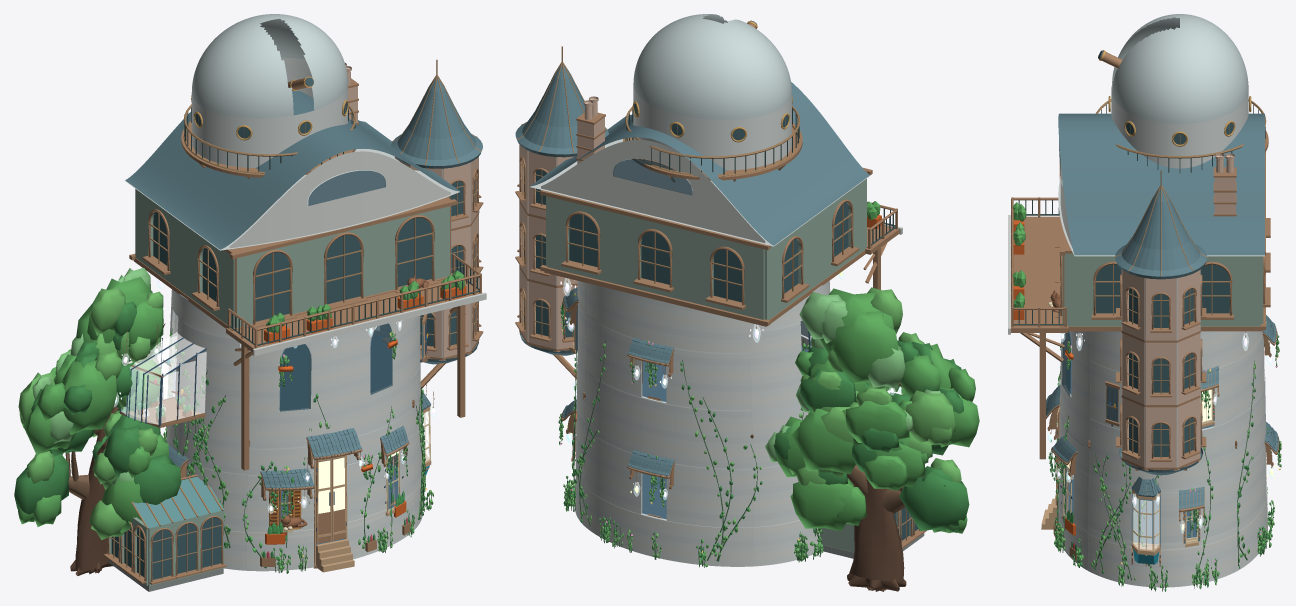
Rendered from mansion-v02.glb.
3 renders of one model, left to right at view 1: azimuth 30°, elevation 25°; view 2: azimuth 150°, elevation 25°; view 3: azimuth 270°, elevation 25°, orthographic.
Visible parts, largest first — view 1: M01_Reuse_TREE_Left_Foliage, M01_Reuse_CURVE_BellGable_SlateRoof, M01_Reuse_ObsDome_Curved, M01_Reuse_CURVE_ArchedGable_PaintedTimber, M01_Reuse_CURVE_Observatory_CylindricalDrum, M01_Reuse_EXT_Vegetation_Detail, M01_Tower_WitchHat, M01_Reuse_TREE_Left_Trunk, M01_Reuse_INT_Slab_Kitchen, M01_Reuse_CURVE_Roof_Soffit, M01_GrandBalcony_Deck, M01_Conservatory_RoofGlass (+63 smaller); view 2: M01_Reuse_TREE_Left_Foliage, M01_Reuse_ObsDome_Curved, M01_Reuse_CURVE_BellGable_SlateRoof, M01_Reuse_CURVE_ArchedGable_Rear, M01_Reuse_CURVE_Observatory_CylindricalDrum, M01_Reuse_EXT_Vegetation_Detail, M01_Reuse_TREE_Left_Trunk, M01_Tower_WitchHat, M01_Reuse_CURVE_Roof_Soffit, M01_UpperFloor_Rear_R.002, M01_UpperFloor_Rear_L.002, M01_UpperFloor_Rear_L.001 (+62 smaller); view 3: M01_Reuse_CURVE_BellGable_SlateRoof, M01_Reuse_ObsDome_Curved, M01_Reuse_EXT_Vegetation_Detail, M01_Tower_WitchHat, M01_Reuse_CURVE_Observatory_CylindricalDrum, M01_GrandBalcony_Deck, M01_UpperFloor_Side_R.003, M01_UpperFloor_Side_L.002, M01_Reuse_INT_Slab_Living, M01_UpperFloor_Side_Glass.004, M01_UpperFloor_Side_Glass.003, M01_Reuse_EXT_MagicLanterns (+54 smaller).
Boxes of the visible parts, x1=… form: M01_Reuse_TREE_Left_Foliage: x1=14, y1=268, x2=181, y2=539; M01_Reuse_CURVE_BellGable_SlateRoof: x1=125, y1=90, x2=459, y2=249; M01_Reuse_ObsDome_Curved: x1=191, y1=14, x2=347, y2=118; M01_Reuse_CURVE_ArchedGable_PaintedTimber: x1=229, y1=151, x2=450, y2=248; M01_Reuse_CURVE_Observatory_CylindricalDrum: x1=191, y1=57, x2=347, y2=167; M01_Reuse_EXT_Vegetation_Detail: x1=163, y1=328, x2=433, y2=573; M01_Tower_WitchHat: x1=391, y1=77, x2=482, y2=168; M01_Reuse_TREE_Left_Trunk: x1=65, y1=323, x2=165, y2=575; M01_Reuse_INT_Slab_Kitchen: x1=173, y1=334, x2=391, y2=410; M01_Reuse_CURVE_Roof_Soffit: x1=125, y1=149, x2=459, y2=250; M01_GrandBalcony_Deck: x1=226, y1=273, x2=479, y2=352; M01_Conservatory_RoofGlass: x1=133, y1=476, x2=224, y2=528; M01_Reuse_TREE_Left_Foliage: x1=765, y1=287, x2=979, y2=533; M01_Reuse_ObsDome_Curved: x1=633, y1=14, x2=791, y2=119; M01_Reuse_CURVE_BellGable_SlateRoof: x1=530, y1=82, x2=869, y2=245; M01_Reuse_CURVE_ArchedGable_Rear: x1=541, y1=140, x2=765, y2=242; M01_Reuse_CURVE_Observatory_CylindricalDrum: x1=633, y1=86, x2=791, y2=170; M01_Reuse_EXT_Vegetation_Detail: x1=558, y1=291, x2=823, y2=567; M01_Reuse_TREE_Left_Trunk: x1=847, y1=383, x2=906, y2=591; M01_Tower_WitchHat: x1=515, y1=65, x2=608, y2=157; M01_Reuse_CURVE_Roof_Soffit: x1=530, y1=139, x2=869, y2=246; M01_UpperFloor_Rear_R.002: x1=743, y1=244, x2=764, y2=319; M01_UpperFloor_Rear_L.002: x1=691, y1=232, x2=713, y2=307; M01_UpperFloor_Rear_L.001: x1=619, y1=214, x2=641, y2=289; M01_Reuse_CURVE_BellGable_SlateRoof: x1=1058, y1=113, x2=1264, y2=255; M01_Reuse_ObsDome_Curved: x1=1112, y1=14, x2=1248, y2=124; M01_Reuse_EXT_Vegetation_Detail: x1=1048, y1=320, x2=1281, y2=591; M01_Tower_WitchHat: x1=1115, y1=188, x2=1207, y2=279; M01_Reuse_CURVE_Observatory_CylindricalDrum: x1=1111, y1=82, x2=1248, y2=168; M01_GrandBalcony_Deck: x1=1011, y1=216, x2=1068, y2=332; M01_UpperFloor_Side_R.003: x1=1231, y1=256, x2=1261, y2=326; M01_UpperFloor_Side_L.002: x1=1064, y1=253, x2=1094, y2=326; M01_Reuse_INT_Slab_Living: x1=1068, y1=479, x2=1196, y2=546; M01_UpperFloor_Side_Glass.004: x1=1200, y1=264, x2=1229, y2=313; M01_UpperFloor_Side_Glass.003: x1=1095, y1=264, x2=1121, y2=313; M01_Reuse_EXT_MagicLanterns: x1=1046, y1=331, x2=1276, y2=533.
Size of the model in its own units: 31.81 by 34.61 by 16.67.
